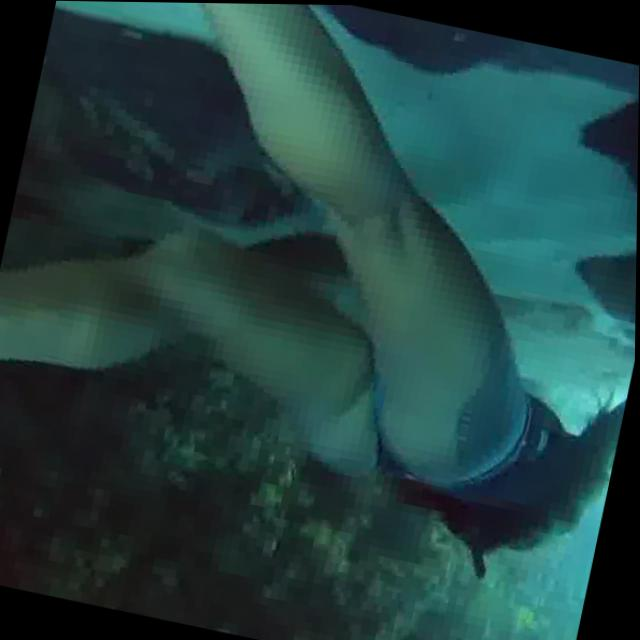human: (0, 0, 640, 591)
